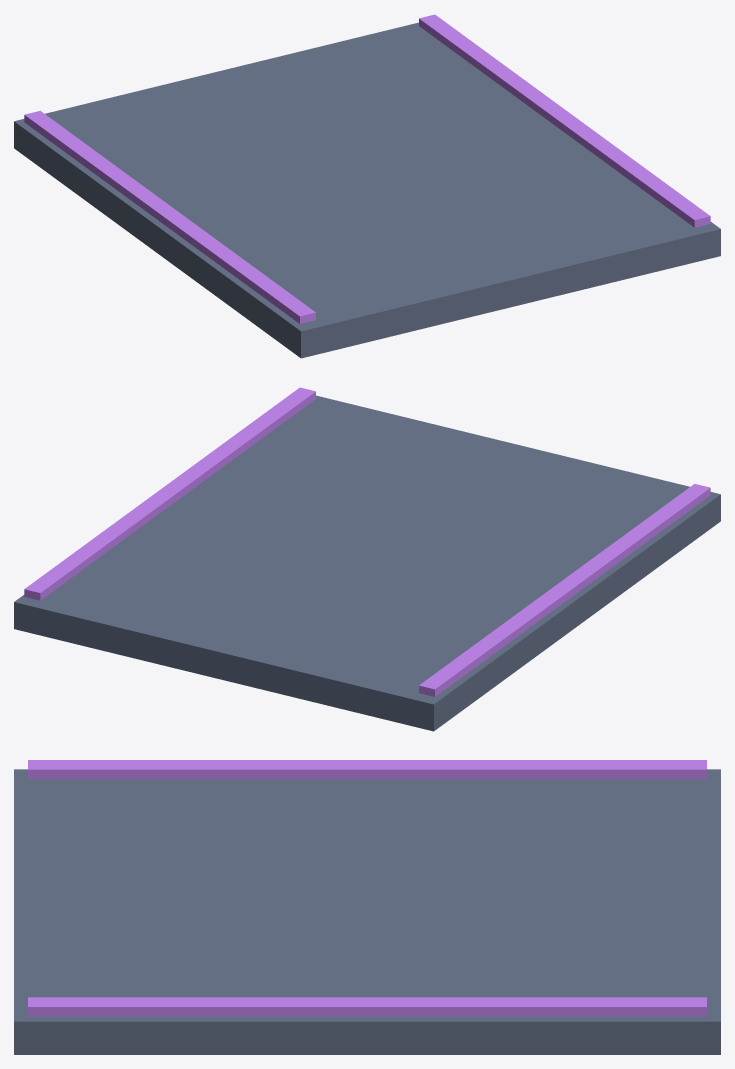
Rendered from track_skating_1lane.glb.
The picture shows the model from 3 angles, top to bottom: view 1: azimuth 30°, elevation 25°; view 2: azimuth 150°, elevation 25°; view 3: azimuth 270°, elevation 25°; orthographic projection. The views are drawn at different scales.
Parts seen in each view (by area): view 1: track_skating_1lane; view 2: track_skating_1lane; view 3: track_skating_1lane.
Boxes of the visible parts, x1,y1,x2,y2 form: track_skating_1lane: (14,14,720,358); track_skating_1lane: (14,387,720,731); track_skating_1lane: (14,760,720,1054).
Size of the model in its own units: 2.6 by 0.2175 by 3.08.
